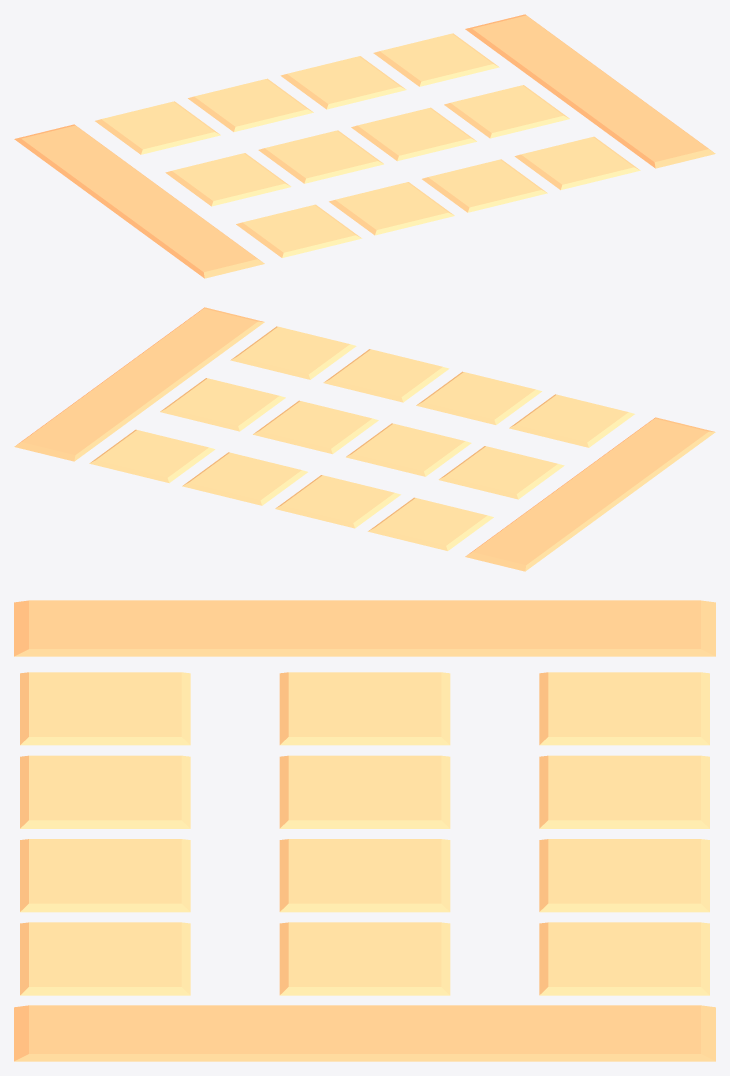
The model's file is loupedeckLights.glb.
3 renders of one model, top to bottom at view 1: azimuth 30°, elevation 25°; view 2: azimuth 150°, elevation 25°; view 3: azimuth 270°, elevation 25°, orthographic. The views are drawn at different scales.
Visible parts, largest first — view 1: LoupedeckLateralLights, LoupedeckLights.007, LoupedeckLights.010, LoupedeckLights.001, LoupedeckLights.003, LoupedeckLights.009, LoupedeckLights.002, LoupedeckLights.004, LoupedeckLights.005, LoupedeckLights.006, LoupedeckLights.008, LoupedeckLights.012 (+1 smaller); view 2: LoupedeckLateralLights, LoupedeckLights.001, LoupedeckLights.002, LoupedeckLights.007, LoupedeckLights.011, LoupedeckLights.005, LoupedeckLights.009, LoupedeckLights.004, LoupedeckLights.006, LoupedeckLights.008, LoupedeckLights.010, LoupedeckLights.012 (+1 smaller); view 3: LoupedeckLateralLights, LoupedeckLights.006, LoupedeckLights.005, LoupedeckLights.008, LoupedeckLights.007, LoupedeckLights.002, LoupedeckLights.010, LoupedeckLights.004, LoupedeckLights.012, LoupedeckLights.001, LoupedeckLights.009, LoupedeckLights.003 (+1 smaller).
Boxes of the visible parts, left/top/right/bottom form: LoupedeckLateralLights: left=14, top=14, right=715, bottom=278; LoupedeckLights.007: left=258, top=130, right=383, bottom=183; LoupedeckLights.010: left=280, top=56, right=406, bottom=109; LoupedeckLights.001: left=514, top=136, right=640, bottom=190; LoupedeckLights.003: left=329, top=182, right=454, bottom=235; LoupedeckLights.009: left=373, top=33, right=499, bottom=86; LoupedeckLights.002: left=422, top=159, right=547, bottom=212; LoupedeckLights.004: left=236, top=204, right=361, bottom=257; LoupedeckLights.005: left=444, top=85, right=569, bottom=138; LoupedeckLights.006: left=351, top=107, right=476, bottom=161; LoupedeckLights.008: left=165, top=153, right=291, bottom=206; LoupedeckLights.012: left=95, top=101, right=220, bottom=154; LoupedeckLateralLights: left=14, top=307, right=715, bottom=571; LoupedeckLights.001: left=230, top=326, right=356, bottom=379; LoupedeckLights.002: left=323, top=349, right=449, bottom=402; LoupedeckLights.007: left=346, top=423, right=471, bottom=476; LoupedeckLights.011: left=275, top=475, right=400, bottom=528; LoupedeckLights.005: left=160, top=378, right=285, bottom=431; LoupedeckLights.009: left=89, top=429, right=215, bottom=483; LoupedeckLights.004: left=509, top=394, right=634, bottom=447; LoupedeckLights.006: left=253, top=400, right=378, bottom=454; LoupedeckLights.008: left=438, top=446, right=564, bottom=499; LoupedeckLights.010: left=182, top=452, right=307, bottom=505; LoupedeckLights.012: left=368, top=497, right=493, bottom=550; LoupedeckLateralLights: left=14, top=600, right=715, bottom=1061; LoupedeckLights.006: left=279, top=839, right=450, bottom=912; LoupedeckLights.005: left=279, top=922, right=450, bottom=995; LoupedeckLights.008: left=279, top=672, right=450, bottom=745; LoupedeckLights.007: left=279, top=755, right=450, bottom=828; LoupedeckLights.002: left=20, top=839, right=190, bottom=912; LoupedeckLights.010: left=539, top=839, right=709, bottom=912; LoupedeckLights.004: left=20, top=672, right=190, bottom=745; LoupedeckLights.012: left=539, top=672, right=709, bottom=745; LoupedeckLights.001: left=20, top=922, right=190, bottom=995; LoupedeckLights.009: left=539, top=922, right=709, bottom=995; LoupedeckLights.003: left=20, top=755, right=190, bottom=828.
Bounding box in the file's own units: 0.0499 × 0.000244 × 0.0322.
